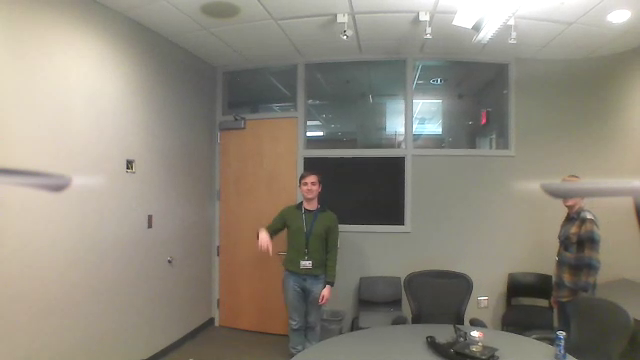down: (254, 225, 275, 259)
